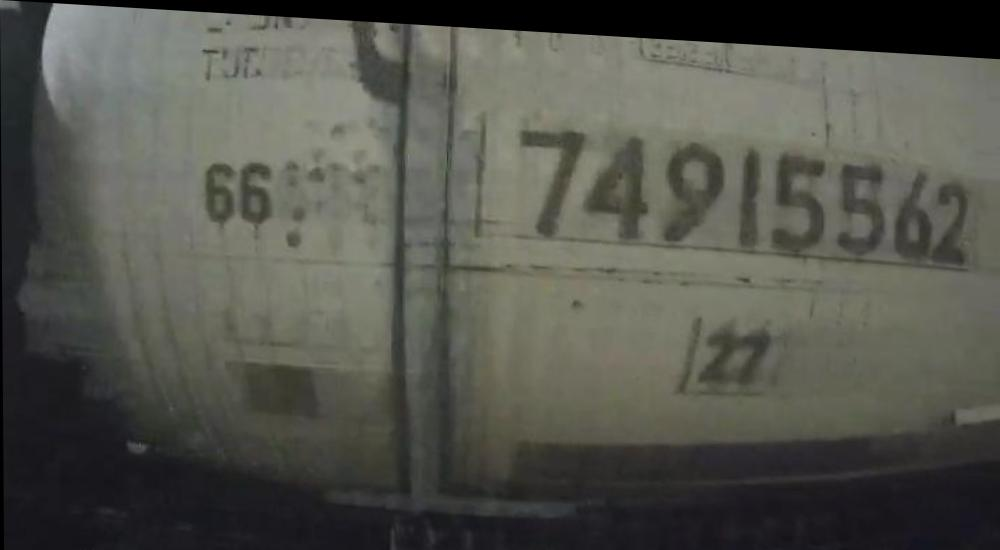Wagon-number: (515, 115, 973, 260)
